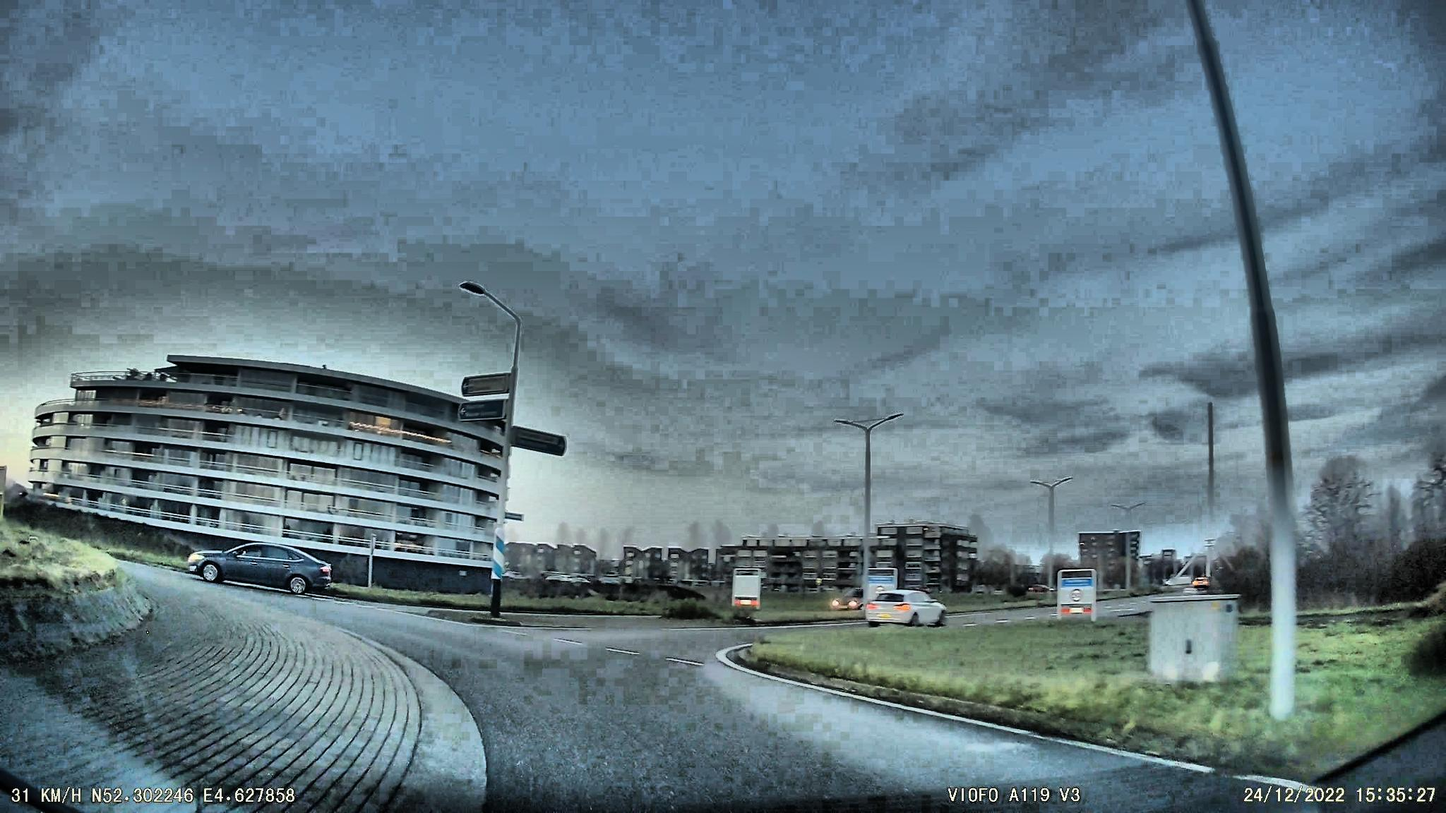Roads: (239, 592, 1316, 813)
